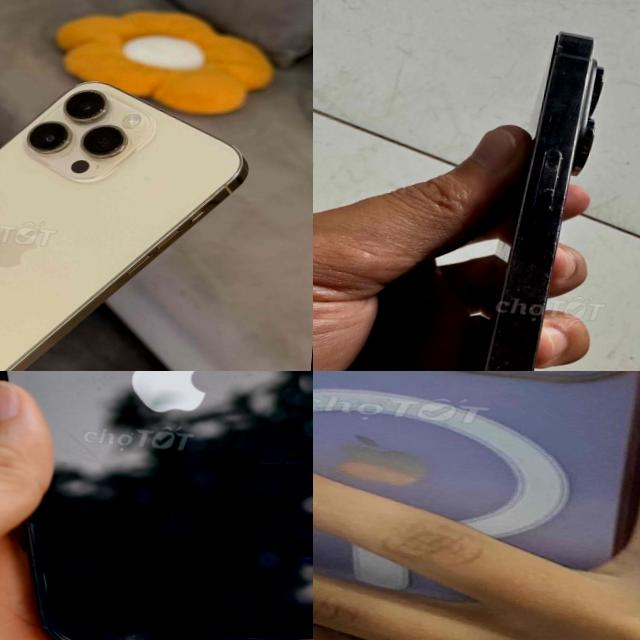gen_11: (313, 371, 640, 640)
gen_12_13: (0, 371, 313, 640)
gen_14: (0, 46, 259, 371), (418, 13, 634, 371)
scratch: (508, 117, 580, 255), (544, 29, 618, 72), (479, 339, 536, 371)
